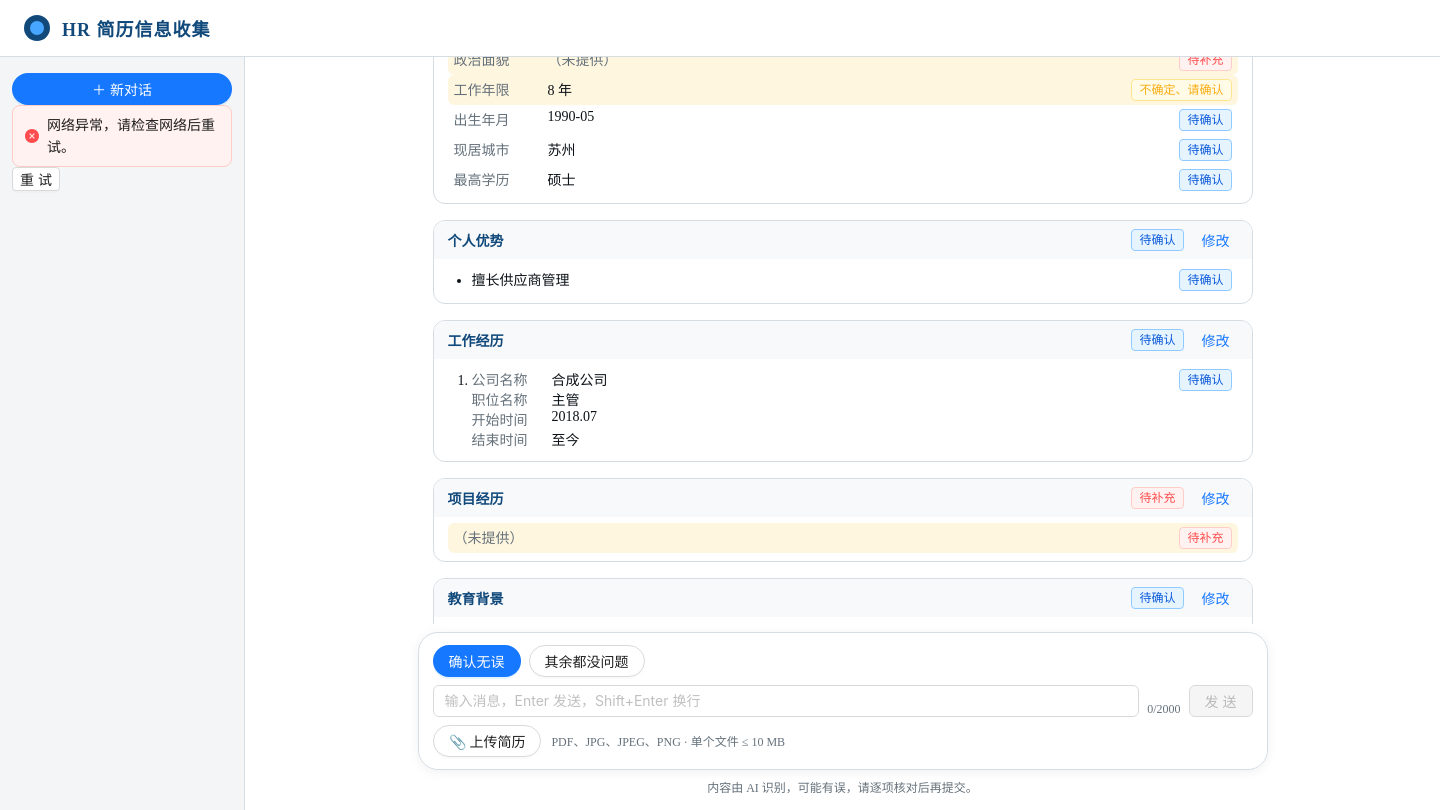
Test: experience lists (REQ-FE-03.3) › lists the existing items as editable cards
This screenshot has width=1440, height=810.
Earlier steps of the test are not shown.
(page scrolled)
Click the button "修改" in the row of "工作经历": coordinates (1216, 340) [1194,328,1238,352]
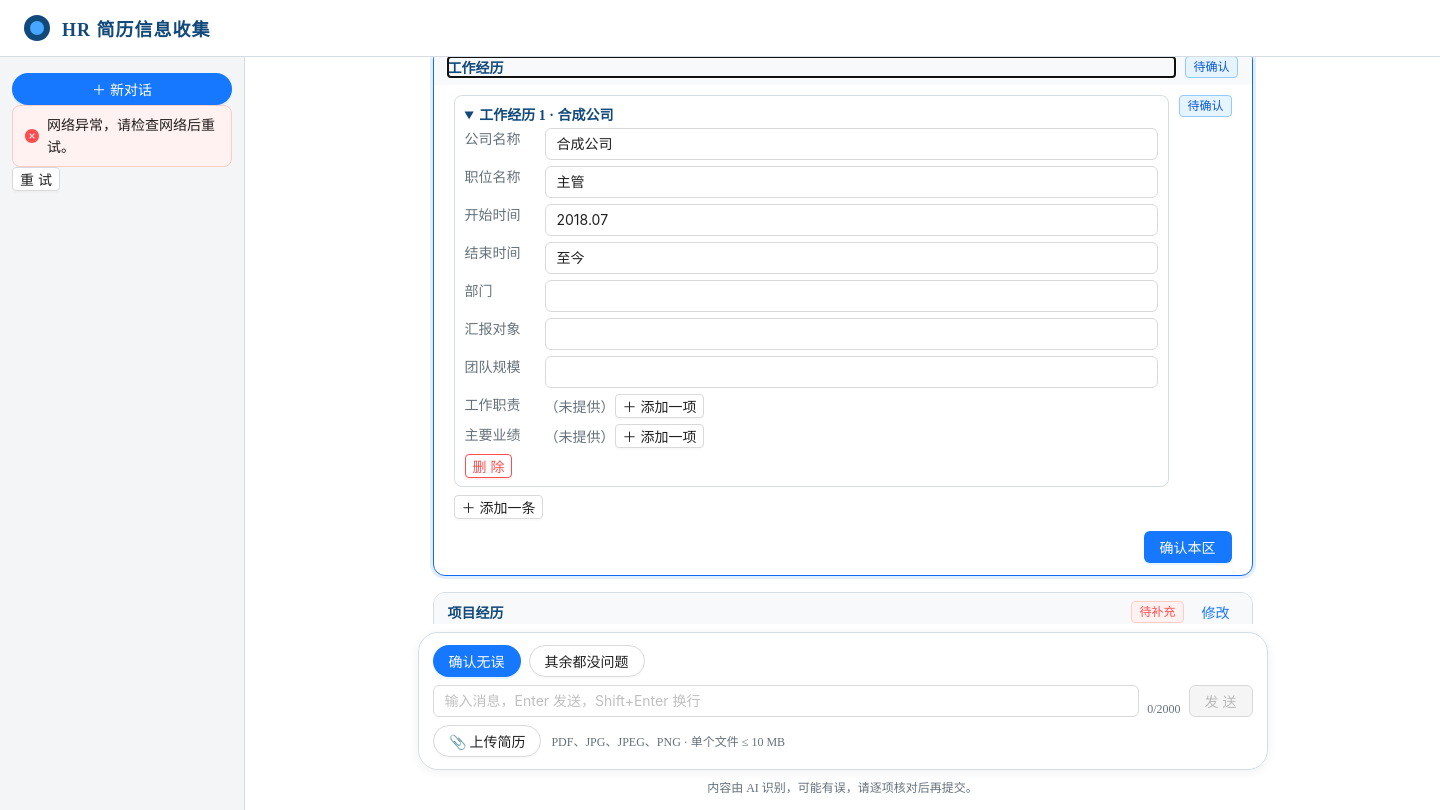
Result: the field labelled "公司名称" holds "合成公司" at [544,128,1158,160]
